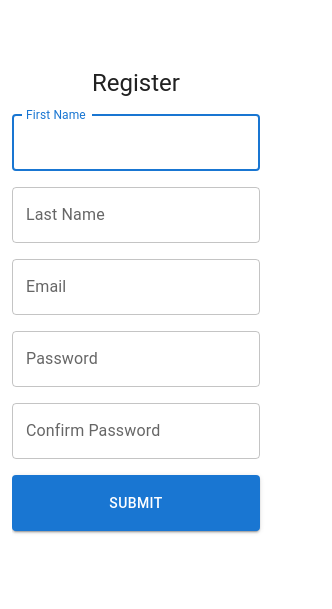
Test: RegisterForm › shows validation errors on empty submit
Click the button with test id "button-submit". click: (136,503)
box: [12, 475, 260, 531]
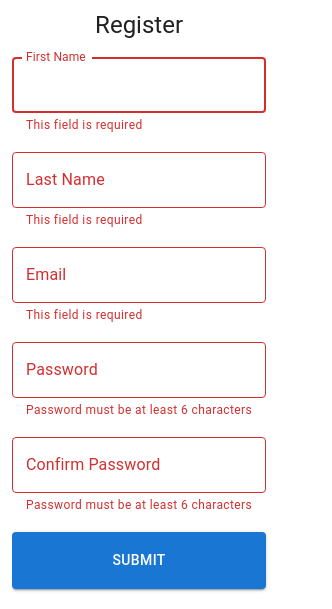
Now the text "Password must be at least 6 characters" is shown 2 times, box [26, 401, 252, 421]; [26, 496, 252, 516]
Now the text "This field is required" is shown 3 times, box [26, 118, 143, 132]; [26, 213, 143, 227]; [26, 308, 143, 322]
